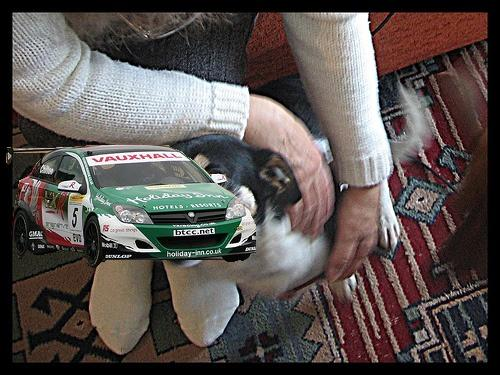tampered: (7, 146, 256, 268)
